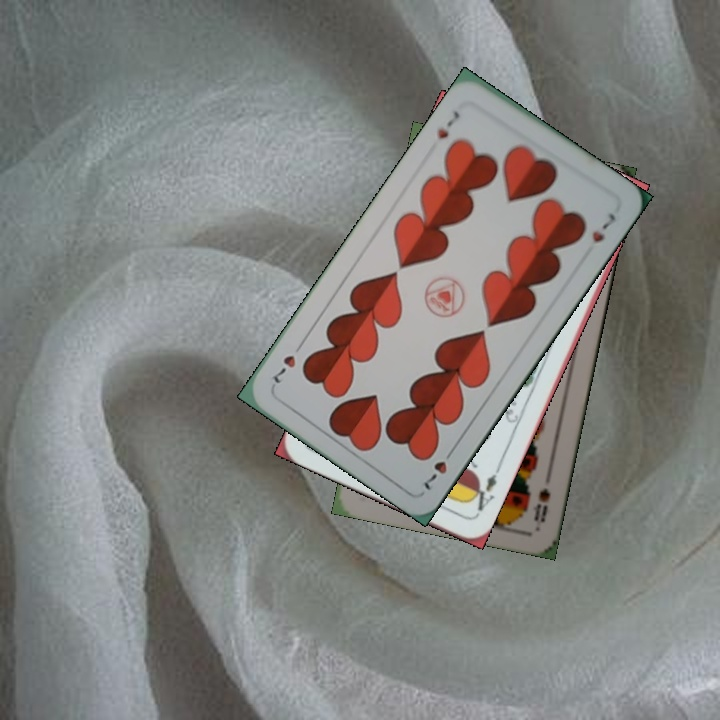EA: (465, 462, 503, 514)
H7: (420, 442, 459, 493), (433, 106, 462, 142)
S8: (529, 484, 553, 525)
